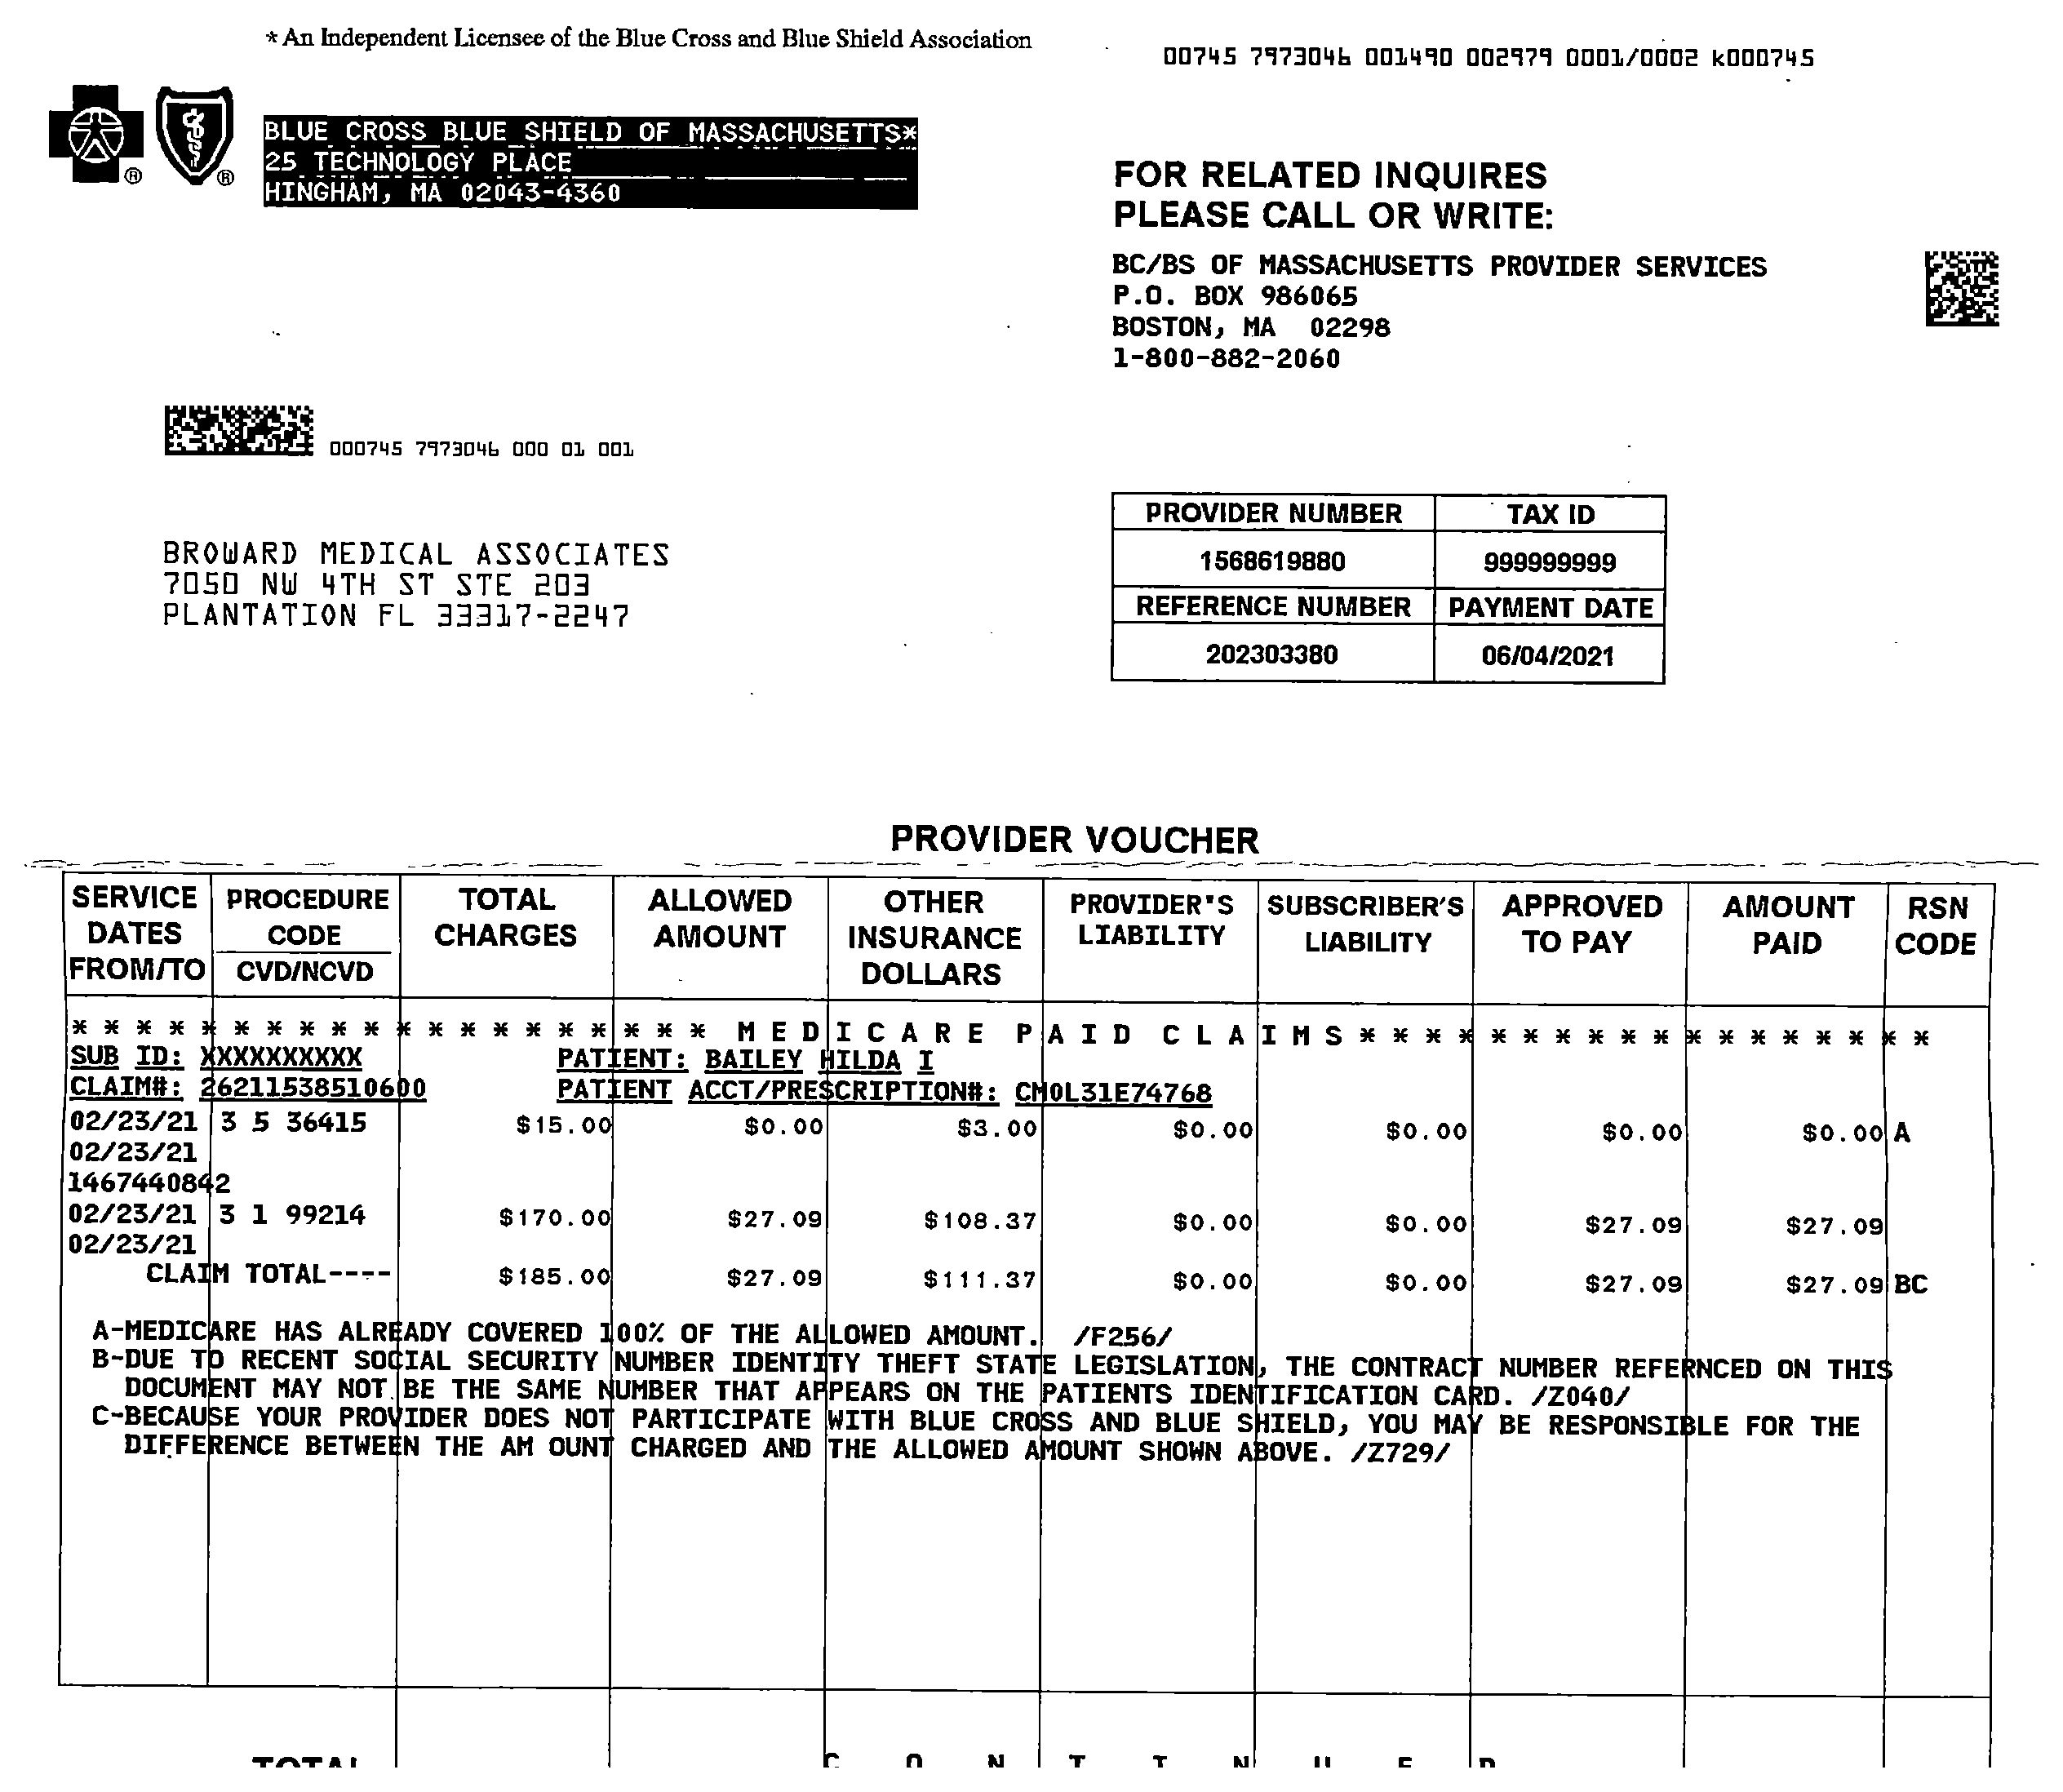table: (46, 849, 2026, 1338), (1112, 482, 1682, 701)
